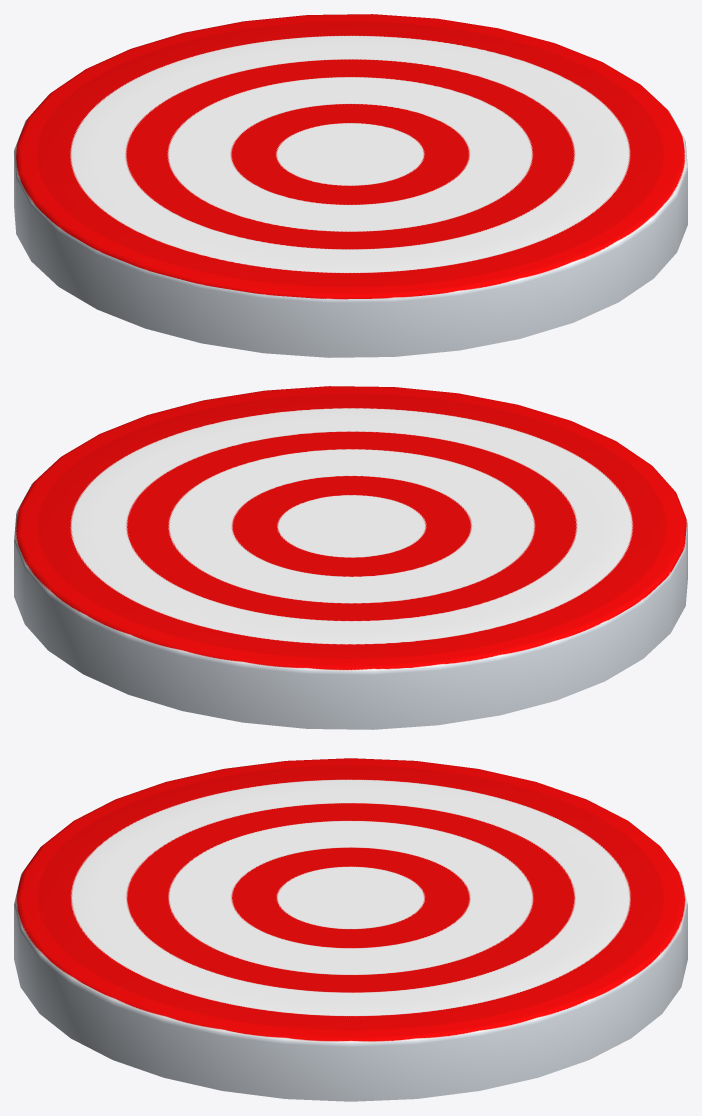
The model's file is target.glb.
3 renders of one model, top to bottom at view 1: azimuth 30°, elevation 25°; view 2: azimuth 150°, elevation 25°; view 3: azimuth 270°, elevation 25°, orthographic.
Visible parts, largest first — view 1: Target; view 2: Target; view 3: Target.
Part boxes in pixels (box(x1,y1,x2,y2)): Target: box(14, 14, 687, 357); Target: box(14, 386, 687, 729); Target: box(14, 758, 687, 1101).
Size of the model in its own units: 2.8 by 0.28 by 2.8.
2 materials, 1 textured.
